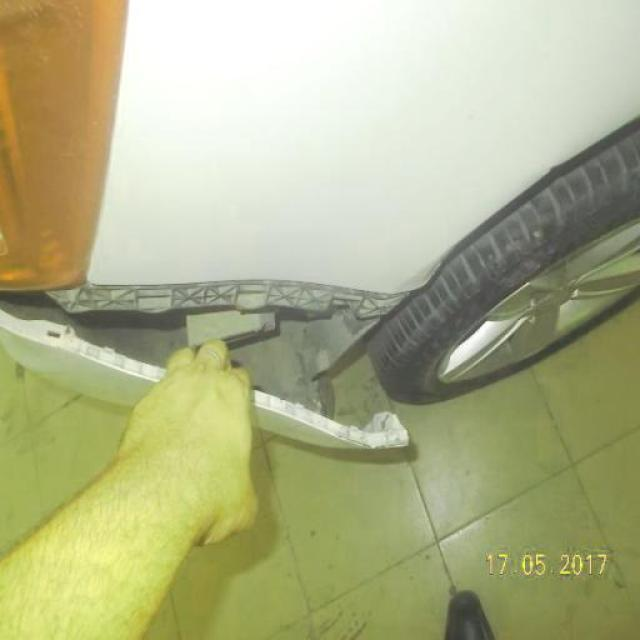car damage: (2, 283, 422, 447)
